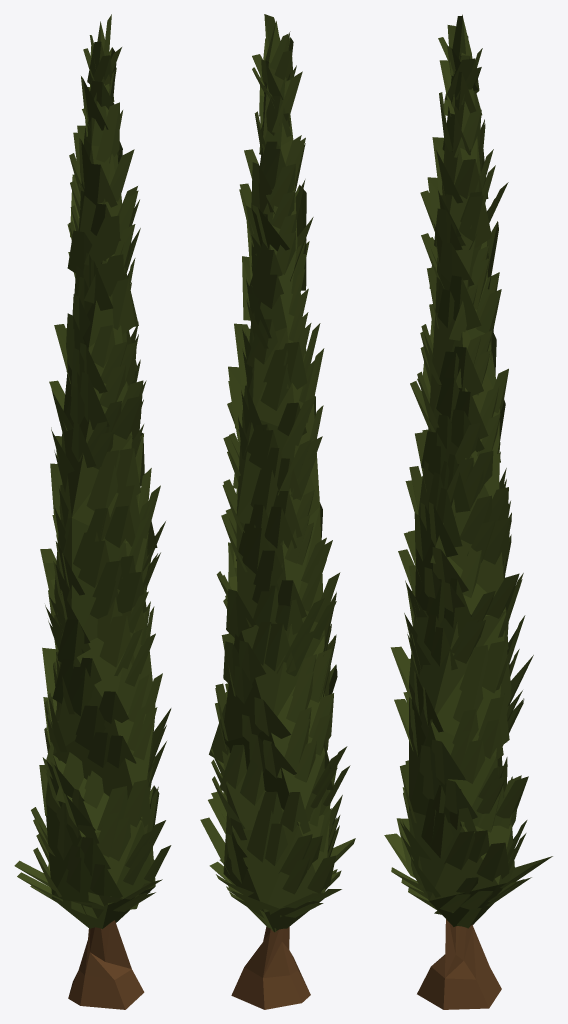
File: SM_Tree_Cypress_Mature_B.fbx
3 renders of one model, left to right at view 1: azimuth 30°, elevation 25°; view 2: azimuth 150°, elevation 25°; view 3: azimuth 270°, elevation 25°, orthographic.
Visible parts, largest first — view 1: tree-cypress-mature-b; view 2: tree-cypress-mature-b; view 3: tree-cypress-mature-b.
Boxes of the visible parts, x1=… form: tree-cypress-mature-b: x1=14, y1=14, x2=171, y2=1009; tree-cypress-mature-b: x1=200, y1=14, x2=355, y2=1009; tree-cypress-mature-b: x1=384, y1=14, x2=552, y2=1009.
Size of the model in its own units: 1.37 by 9.21 by 1.44.
